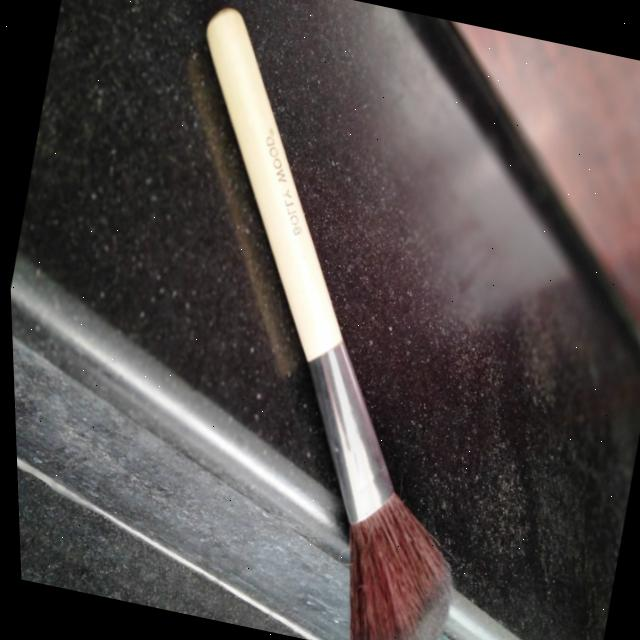brush: (60, 0, 576, 640)
